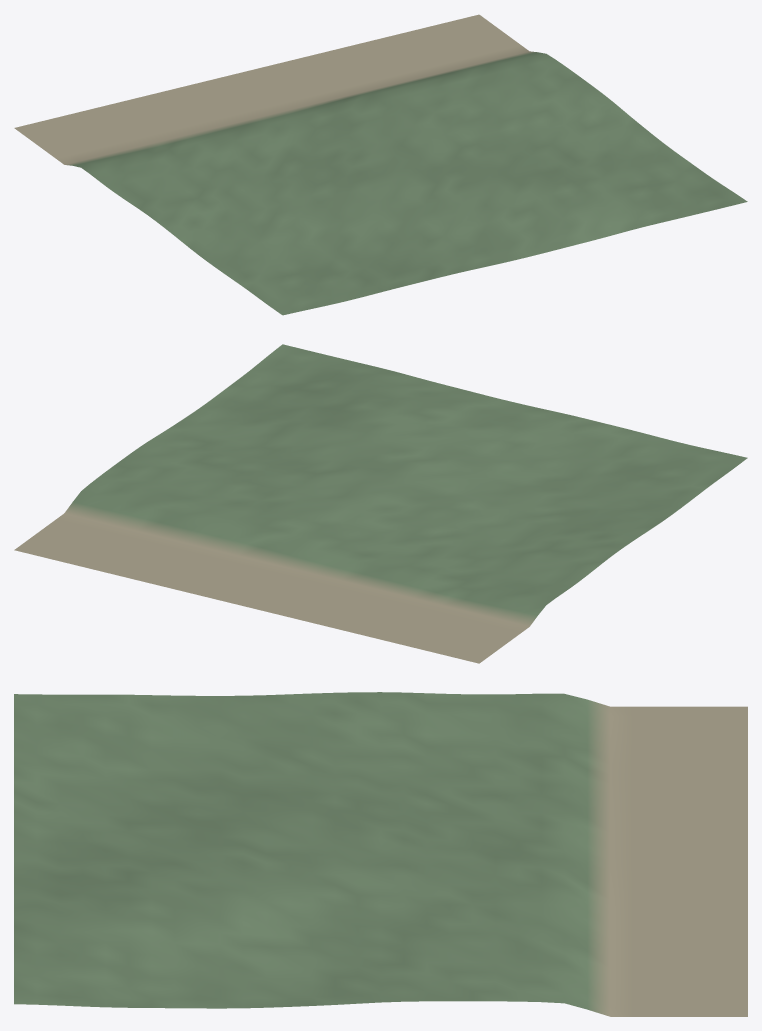
The picture shows the model from 3 angles, top to bottom: view 1: azimuth 30°, elevation 25°; view 2: azimuth 150°, elevation 25°; view 3: azimuth 270°, elevation 25°; orthographic projection. The views are drawn at different scales.
Visible parts, largest first — view 1: Terrain-col; view 2: Terrain-col; view 3: Terrain-col.
Boxes of the visible parts, box(x1,y1,x2,y2) form: Terrain-col: box(14, 14, 747, 315); Terrain-col: box(14, 344, 747, 663); Terrain-col: box(14, 692, 747, 1016).
Size of the model in its own units: 256 by 8.42 by 256.
